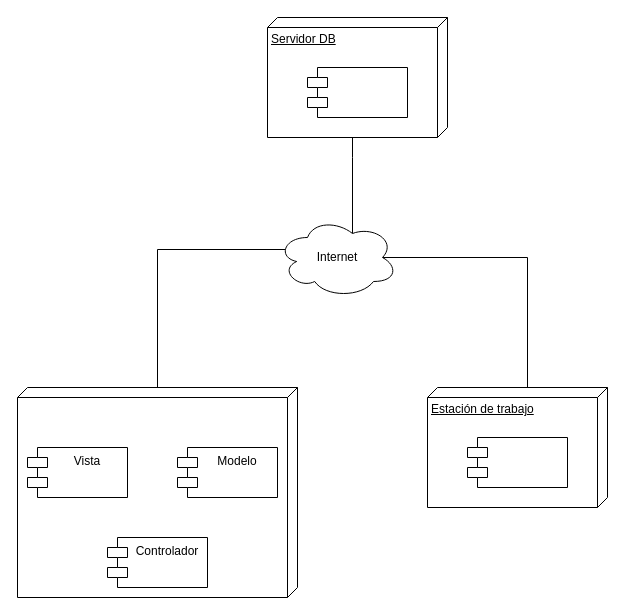
Image size: 625x615. Some labels were removed from this diagram. Each missing label, with the box of its shape:
Base de datos: (306, 66, 408, 118)
Navegador web: (466, 436, 568, 488)
Servidor Web: (16, 386, 298, 598)
